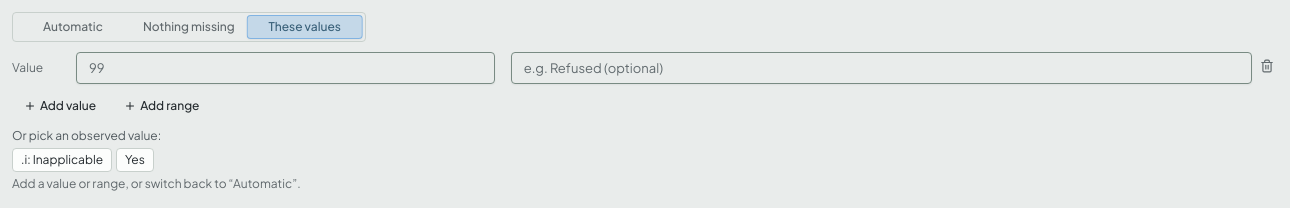
MissingValueRows — the observed-value picker (#823a) › puts the STORED text into the row, interior spacing intact
What coordinates should you click on to do the following:
click the button with test id "mv-pick"
I would click on:
 (62, 160)
Its box is [12,148,112,172].
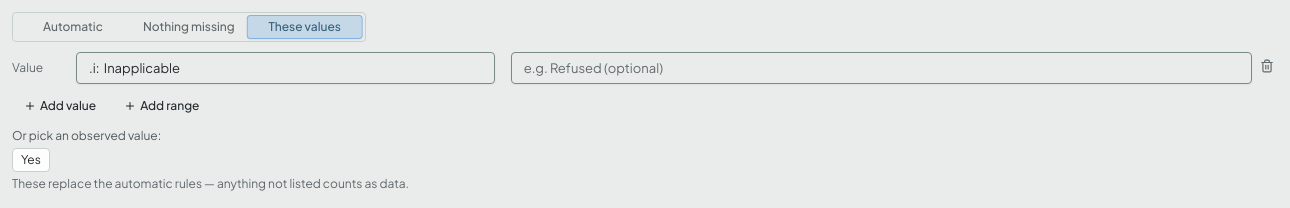
Check: the field named "Missing value code for row 1" holds ".i:  Inapplicable", box [76,52,495,84]
Check: the field named "Missing value code for row 1" does not hold ".i: Inapplicable", box [76,52,495,84]
